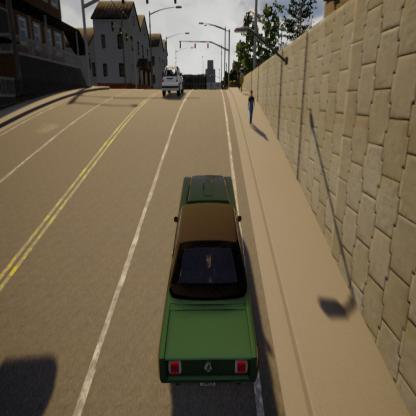Cars: (147, 165, 262, 398), (160, 62, 184, 101)
Pedestrian: (244, 85, 258, 131), (235, 66, 242, 93), (239, 66, 244, 97)
